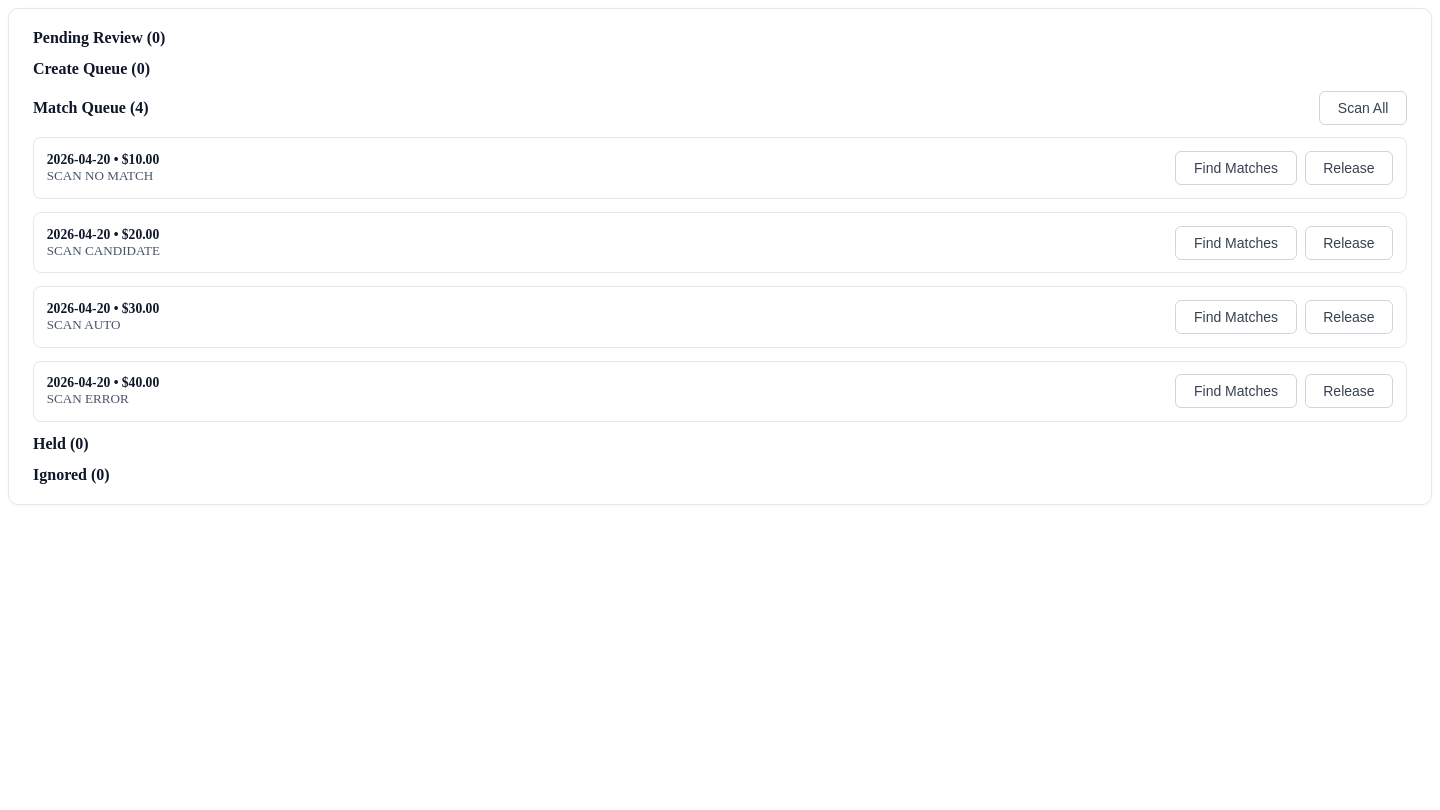
BankFeedMatchTab › shows one summary toast after Scan All completes with mixed results
Click the button "Scan All": (1363, 108) [1319, 91, 1407, 125]
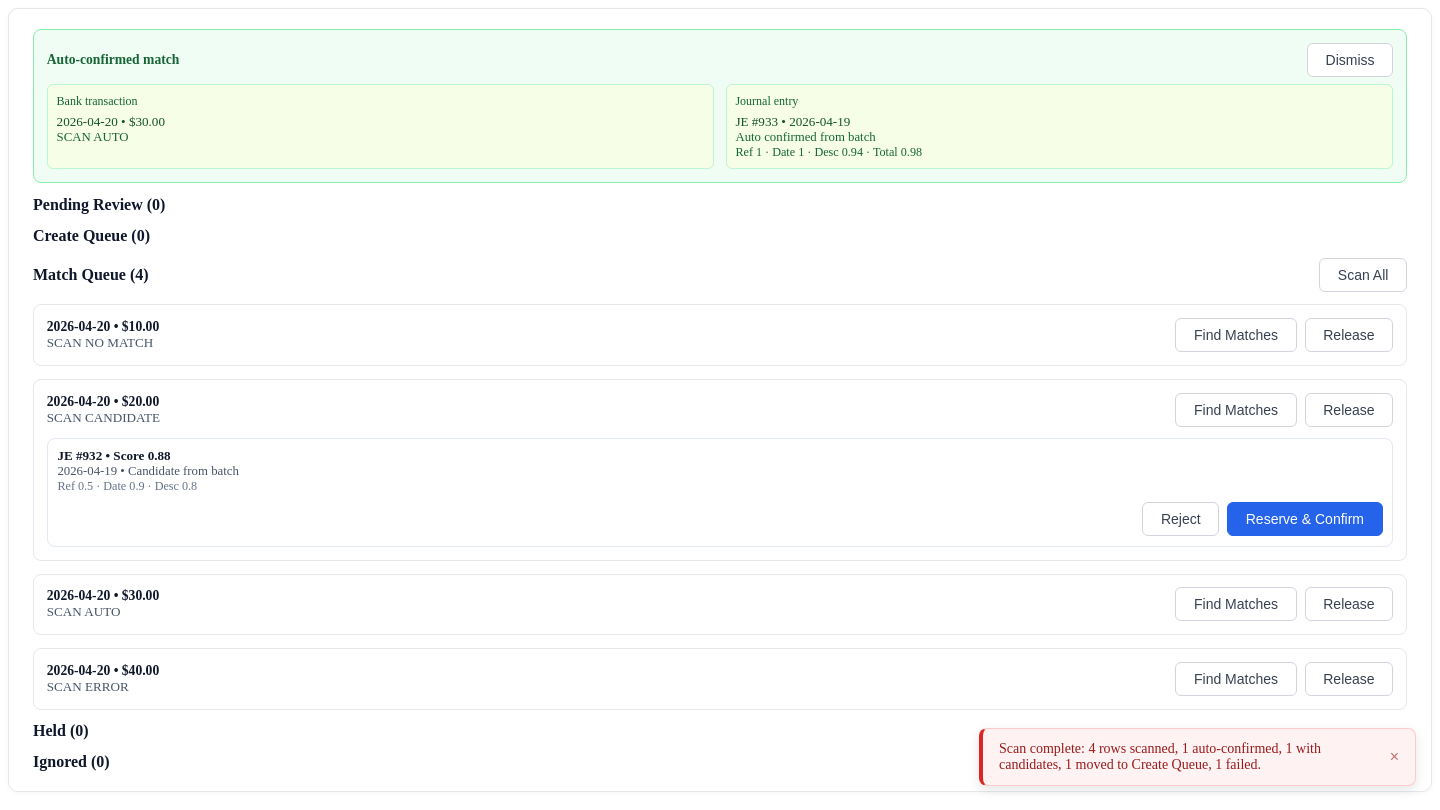
expect the text "Scan complete: 4 rows scanned, 1 auto-confirmed, 1 with candidates, 1 moved to Create Queue, 1 failed." is shown: met, box [999, 741, 1321, 772]
expect the text "Auto-confirmed match" is shown: met, box [47, 52, 179, 68]
